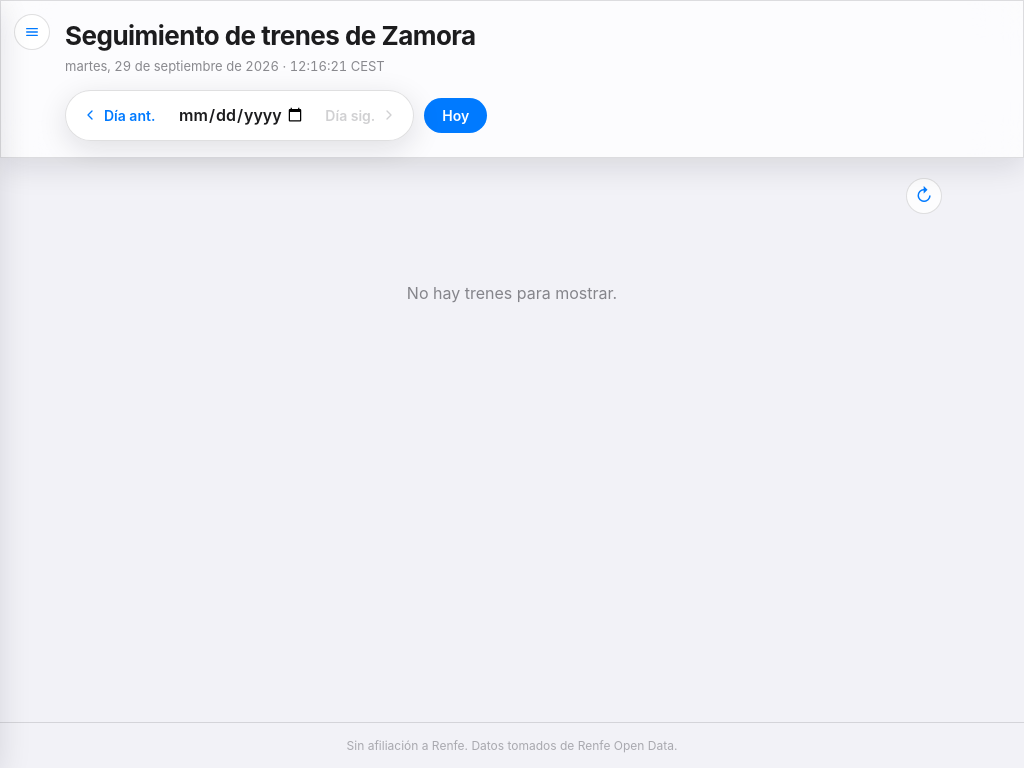
Test: App › 'Día ant.' from today loads the most recent dumped day (maxDate)
Expected: the text "No hay trenes para mostrar." is shown, [407, 283, 617, 303]
Click the button "Día ant.".
click(119, 115)  # box [70, 99, 167, 132]
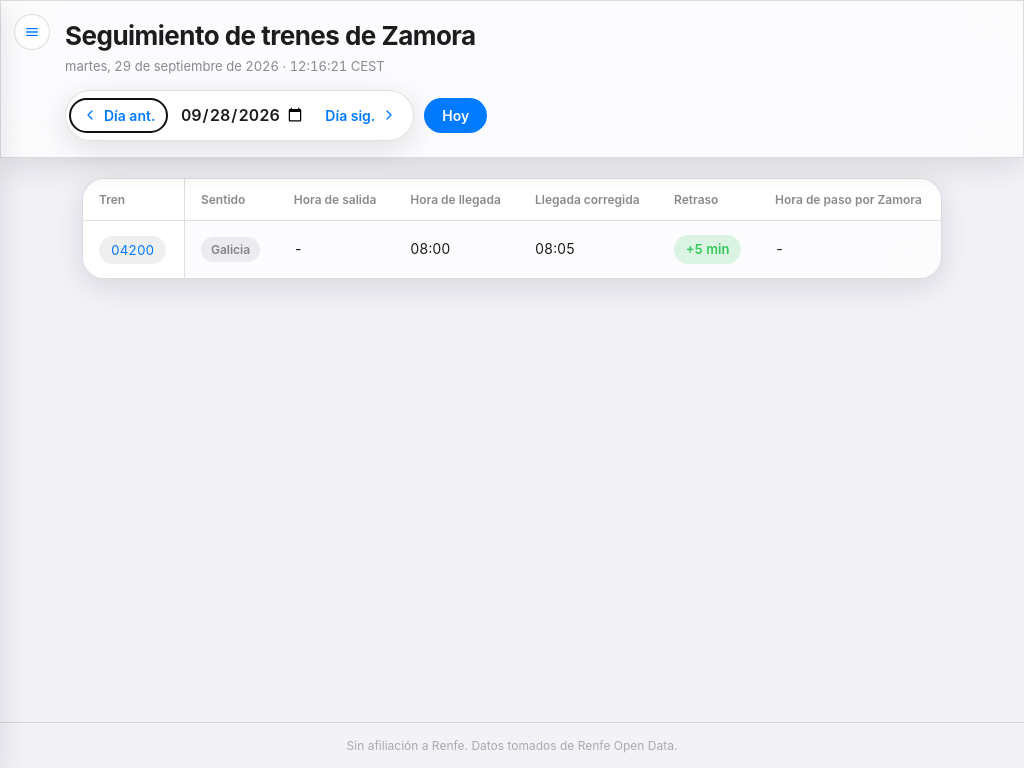
Now the button "04200" is shown, box [99, 236, 166, 264]
